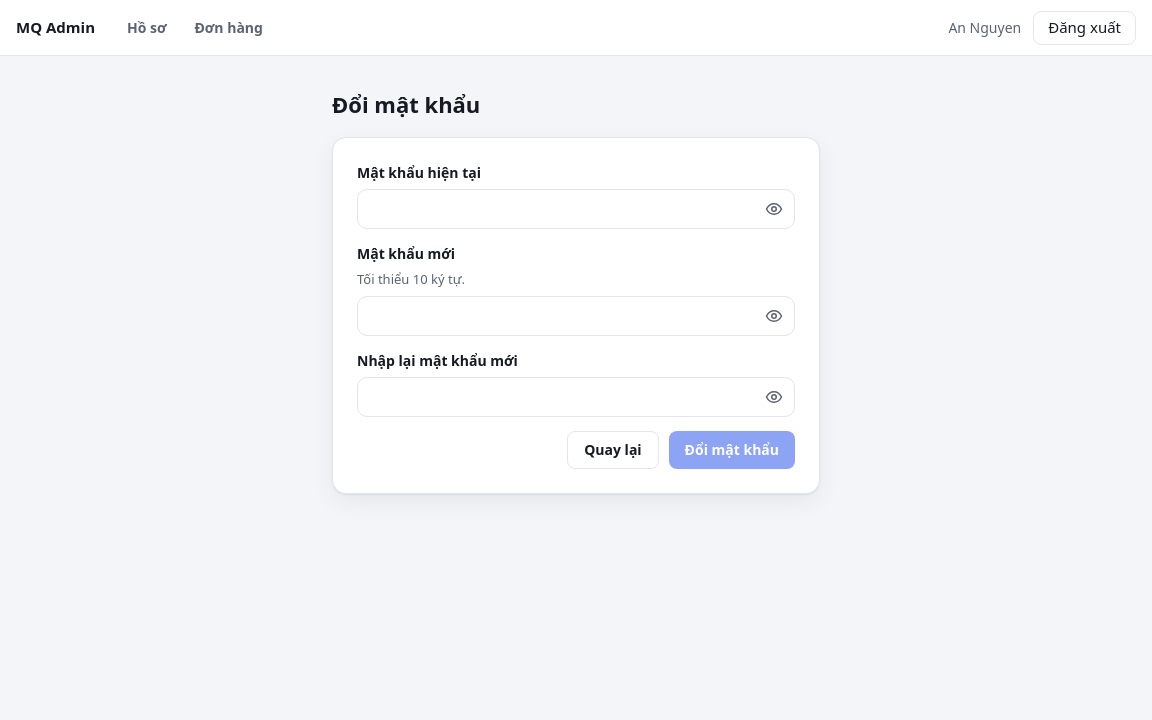
ChangePasswordPage › changes the password and clears the form
The image size is (1152, 720).
Expected: the heading "Đổi mật khẩu" is shown, [332, 89, 480, 119]
Type "old-password-1" into the password field labelled "Mật khẩu hiện tại" at (576, 209), box [357, 189, 795, 229]
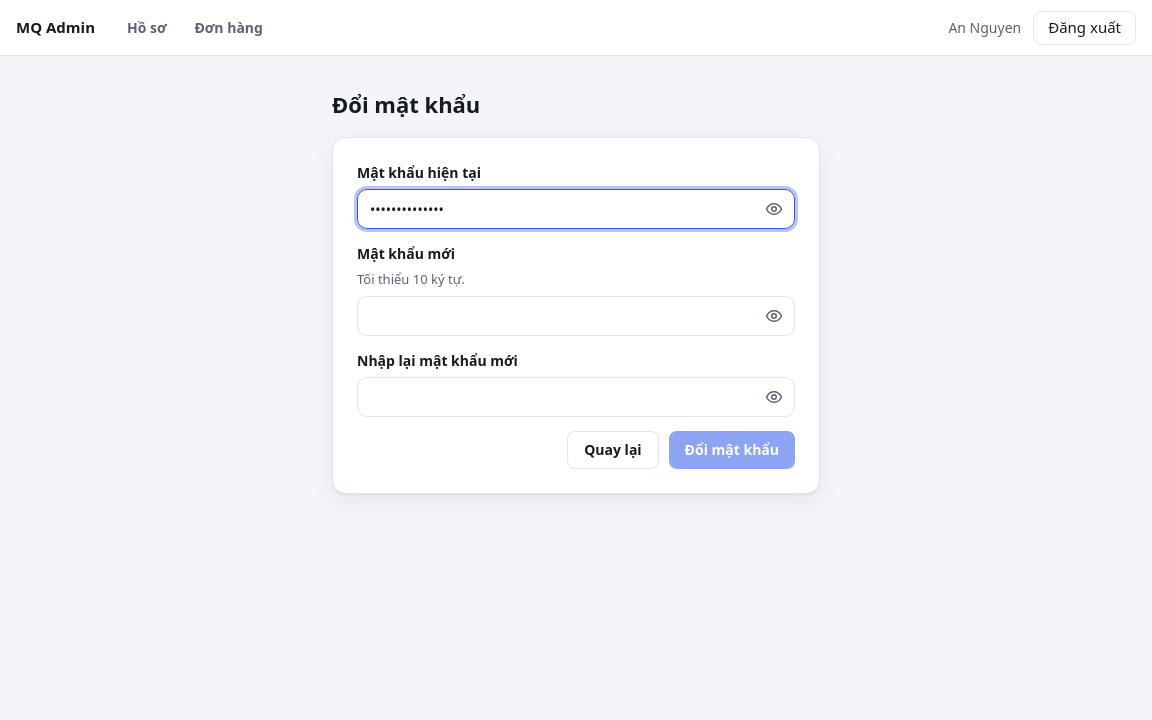
Type "new-password-123" into the password field labelled "Mật khẩu mới" at (576, 316), box [357, 296, 795, 336]
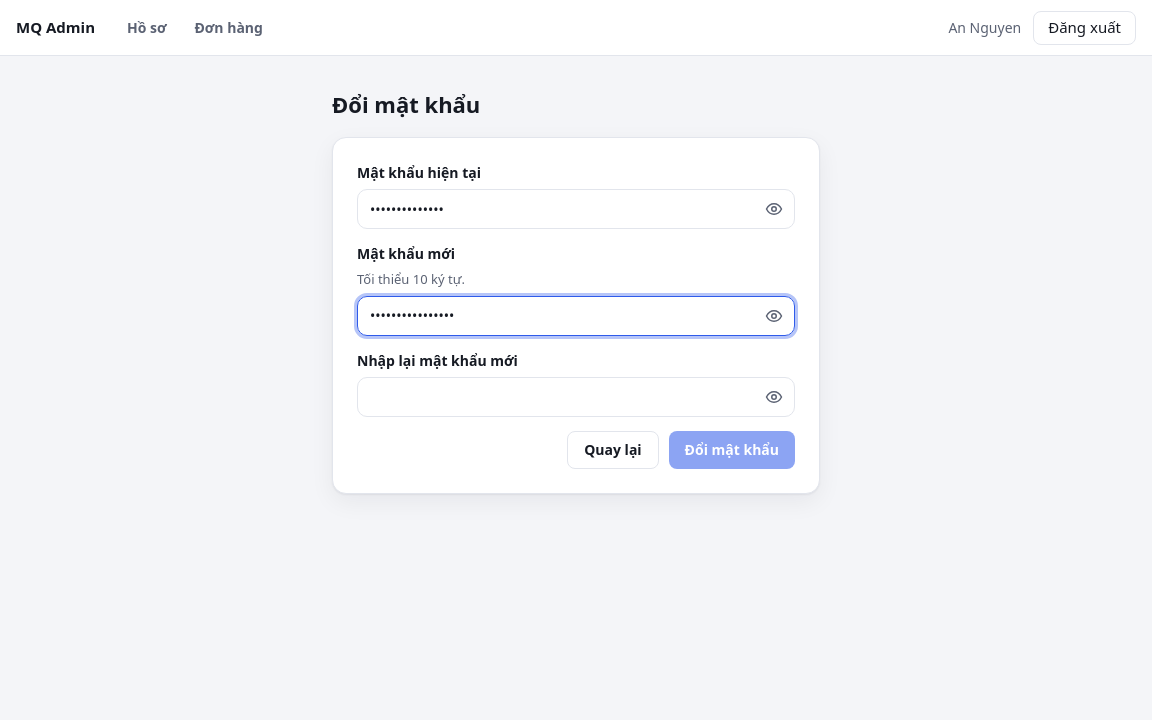
Type "new-password-123" into the password field labelled "Nhập lại mật khẩu mới" at (576, 396), box [357, 376, 795, 416]
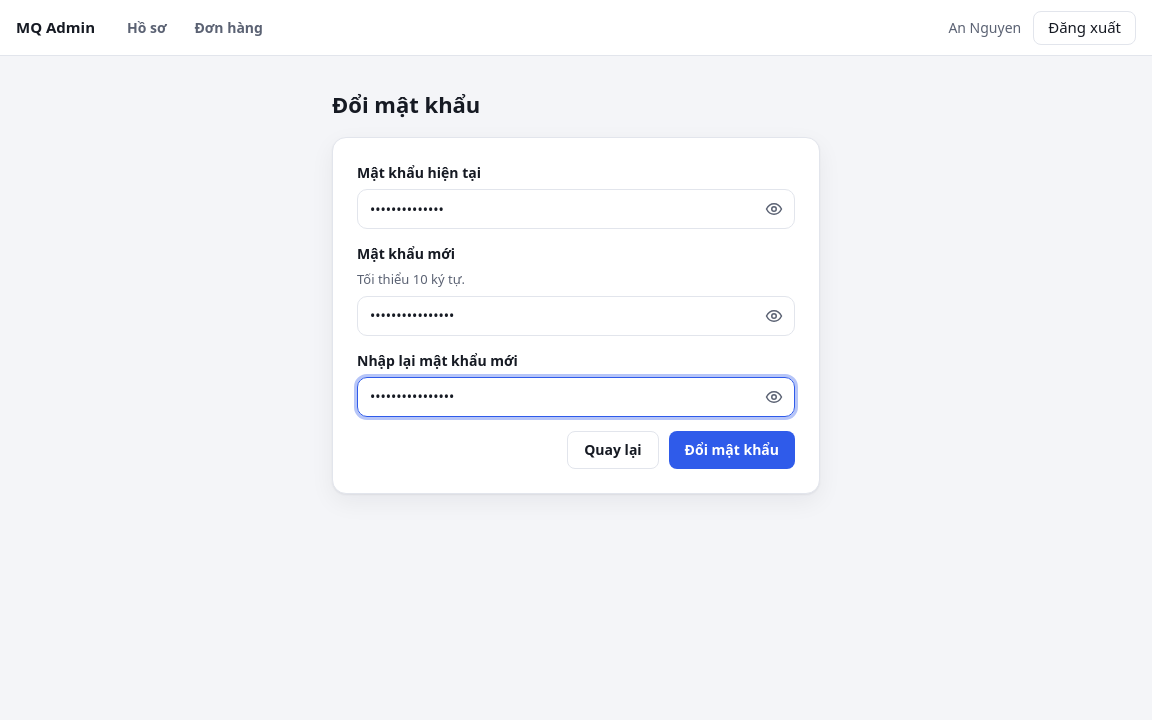
Click the button "Đổi mật khẩu" at (732, 450), box [669, 430, 795, 468]
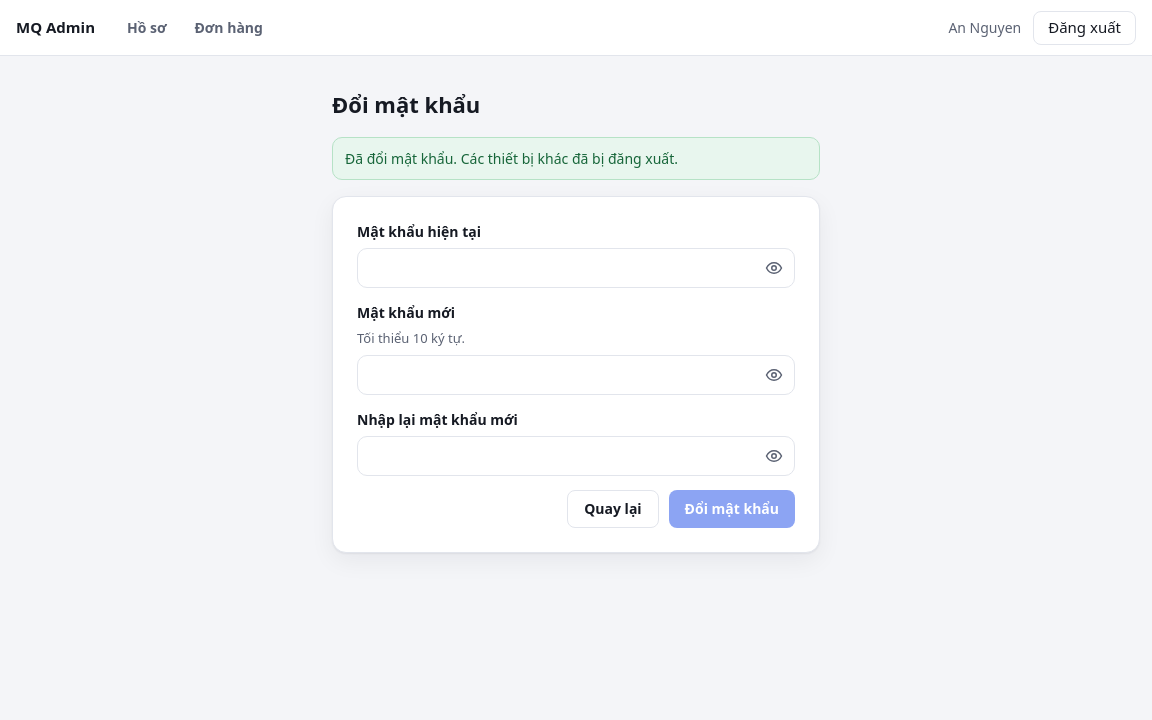
Now the message shows "Đã đổi mật khẩu.", box [345, 149, 678, 168]
Now the password field labelled "Mật khẩu mới" is empty, box [357, 354, 795, 394]
